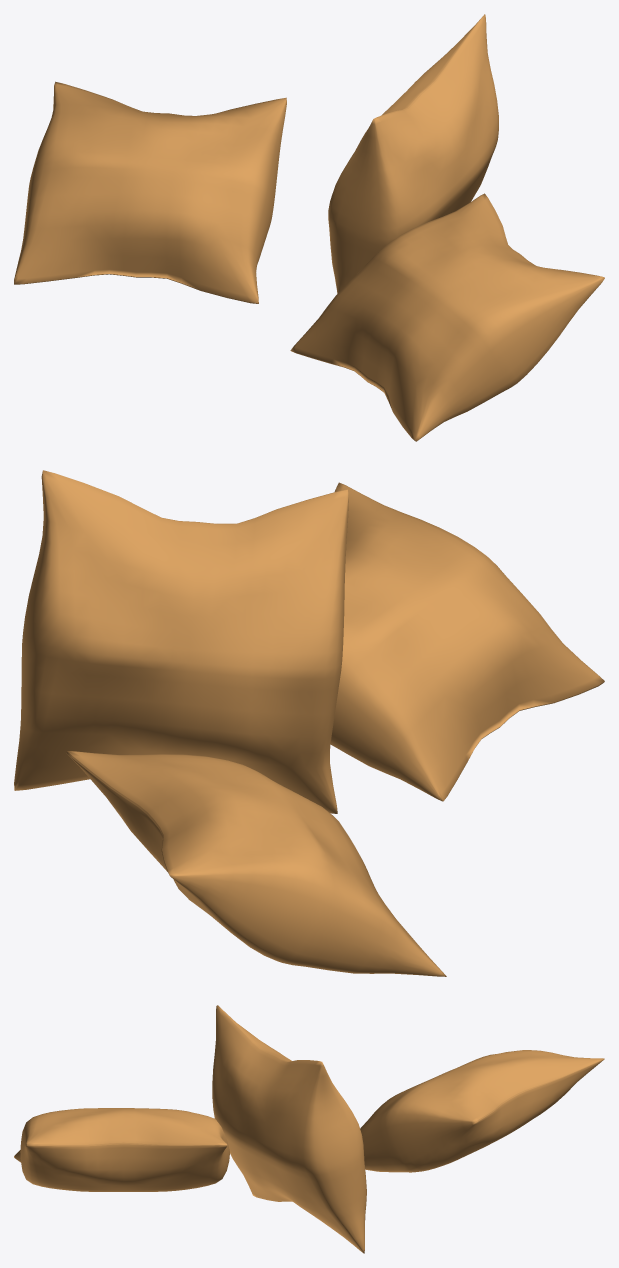
Rendered from 46258cfc-37bd-4df6-b498-df0867a11c5b.glb.
The picture shows the model from 3 angles, top to bottom: view 1: azimuth 30°, elevation 25°; view 2: azimuth 150°, elevation 25°; view 3: azimuth 270°, elevation 25°; orthographic projection. The views are drawn at different scales.
Parts seen in each view (by area): view 1: Box003, Box002, Box001; view 2: Box001, Box002, Box003; view 3: Box001, Box003, Box002.
Boxes of the visible parts, x1,y1,x2,y2 form: Box003: (14, 81, 286, 303); Box002: (290, 193, 604, 441); Box001: (328, 14, 498, 293); Box001: (14, 470, 348, 813); Box002: (330, 482, 604, 801); Box003: (66, 751, 446, 976); Box001: (212, 1005, 366, 1253); Box003: (360, 1050, 604, 1172); Box002: (14, 1108, 229, 1191).
Bounding box in the file's own units: 26.32 × 15.57 × 39.52.
